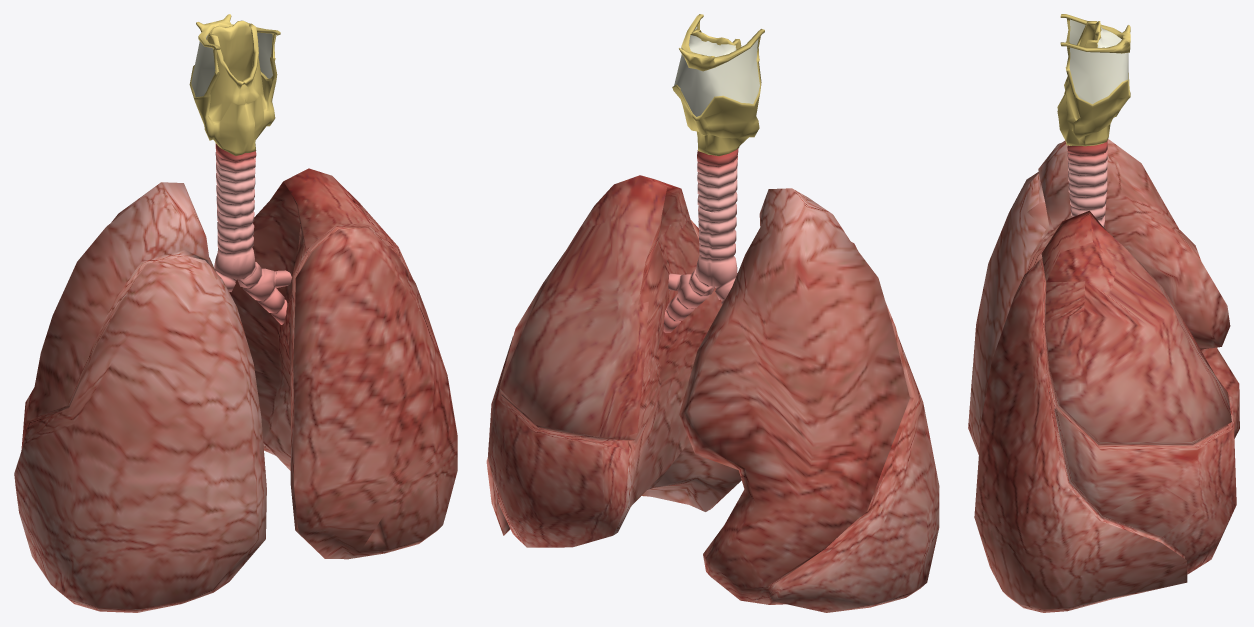
Rendered from lung.dae.
3 views of the same model, side by side, from view 1: azimuth 30°, elevation 25°; view 2: azimuth 150°, elevation 25°; view 3: azimuth 270°, elevation 25° (orthographic). The views are drawn at different scales.
Visible parts, largest first — view 1: polySurface13, polySurface8, polySurface7, polySurface9; view 2: polySurface13, polySurface7, polySurface8, polySurface9, polySurface11; view 3: polySurface13, polySurface8, polySurface7, polySurface9.
Part boxes in pixels (bbox=[...]): polySurface13: bbox=[14, 168, 457, 612]; polySurface8: bbox=[189, 14, 280, 155]; polySurface7: bbox=[214, 143, 291, 324]; polySurface9: bbox=[191, 32, 272, 97]; polySurface13: bbox=[486, 175, 939, 612]; polySurface7: bbox=[663, 148, 738, 332]; polySurface8: bbox=[672, 14, 764, 156]; polySurface9: bbox=[674, 26, 759, 116]; polySurface11: bbox=[689, 35, 736, 56]; polySurface13: bbox=[968, 139, 1239, 612]; polySurface8: bbox=[1057, 14, 1130, 146]; polySurface7: bbox=[1067, 140, 1107, 227]; polySurface9: bbox=[1069, 19, 1128, 104].
Bounding box in the file's own units: 8.23 × 10.2 × 5.01.
1 material, 1 textured.
